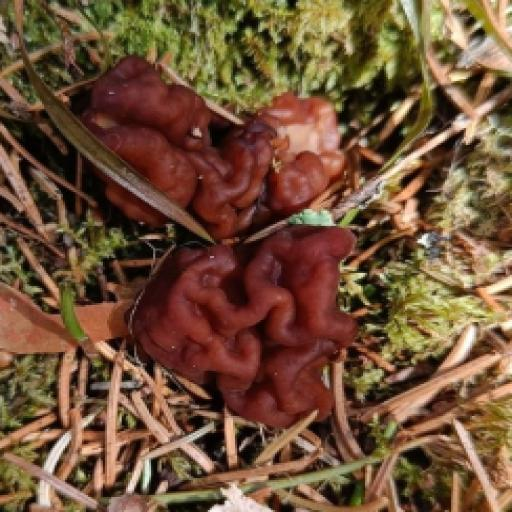mushroom: (124, 225, 358, 433), (69, 44, 230, 195)
